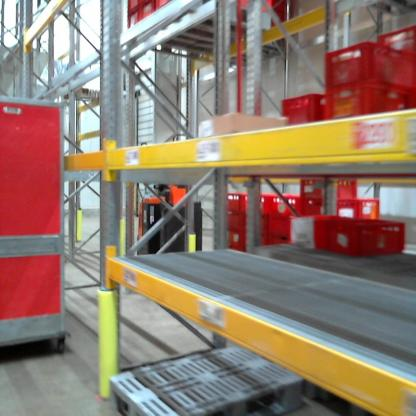pallet: (140, 9, 274, 77)
pallet_truck: (131, 132, 214, 298)
small_load_carrier: (289, 209, 411, 262), (324, 30, 411, 96), (319, 74, 407, 136), (275, 89, 331, 140), (322, 192, 388, 222), (372, 21, 416, 57), (268, 189, 320, 219), (298, 175, 360, 200), (240, 190, 285, 215), (267, 213, 300, 244), (223, 190, 245, 214), (222, 212, 244, 233), (222, 231, 244, 252), (129, 8, 144, 34), (139, 1, 155, 25), (128, 1, 139, 15)
